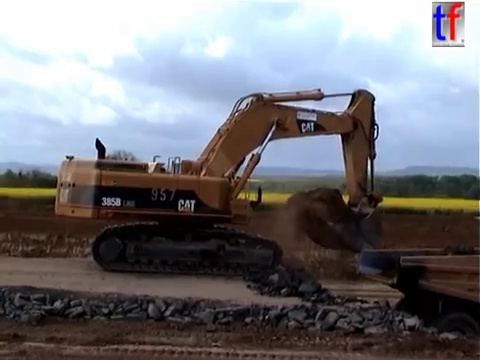excavator: (51, 85, 387, 281)
truck: (355, 245, 480, 360)
